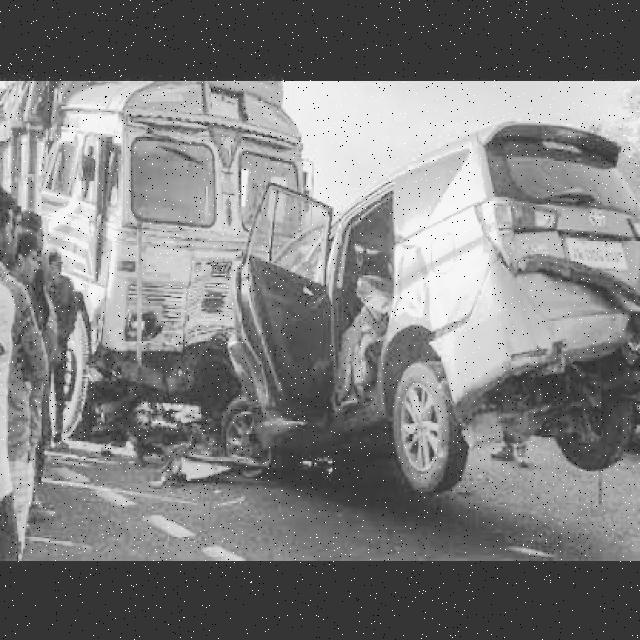HCV: (2, 129, 329, 371)
